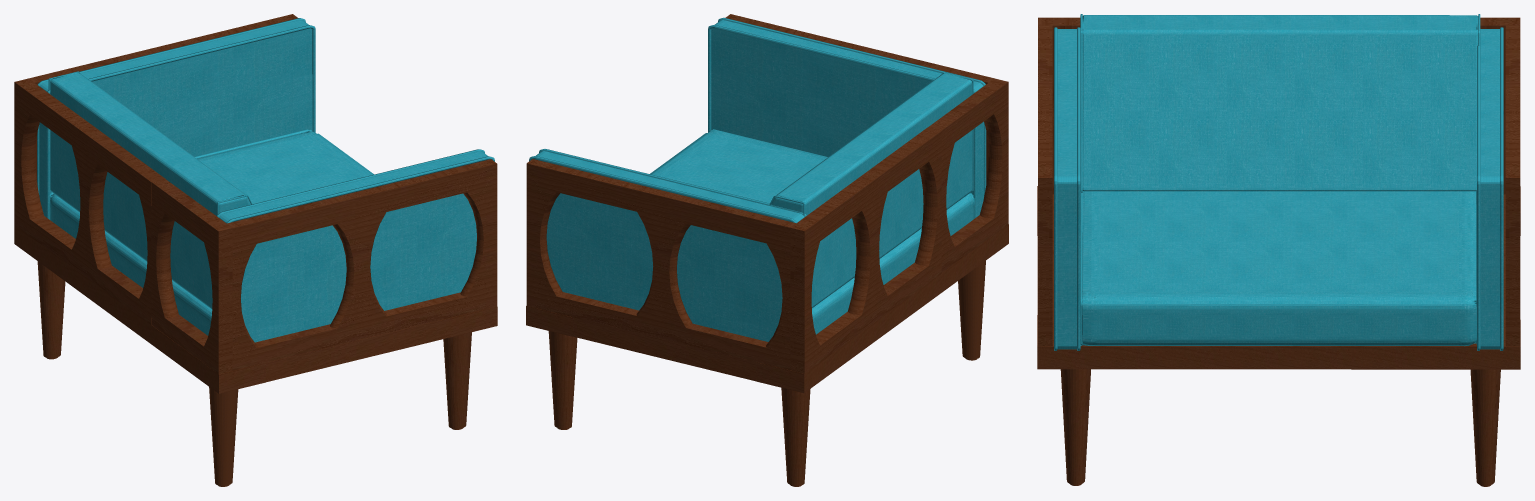
The model's file is Clemchair2git.glb.
3 renders of one model, left to right at view 1: azimuth 30°, elevation 25°; view 2: azimuth 150°, elevation 25°; view 3: azimuth 270°, elevation 25°, orthographic. The views are drawn at different scales.
Visible parts, largest first — view 1: Cylinder.006, Cylinder.001; view 2: Cylinder.006, Cylinder.001; view 3: Cylinder.006, Cylinder.001.
Part boxes in pixels (left/top/right/bottom): Cylinder.006: left=37, top=18, right=494, bottom=342; Cylinder.001: left=14, top=14, right=497, bottom=486; Cylinder.006: left=529, top=17, right=986, bottom=341; Cylinder.001: left=526, top=14, right=1008, bottom=486; Cylinder.006: left=1054, top=14, right=1503, bottom=350; Cylinder.001: left=1037, top=17, right=1520, bottom=486.
Size of the model in its own units: 0.819 by 0.777 by 1.02.
2 materials, 2 textured.
